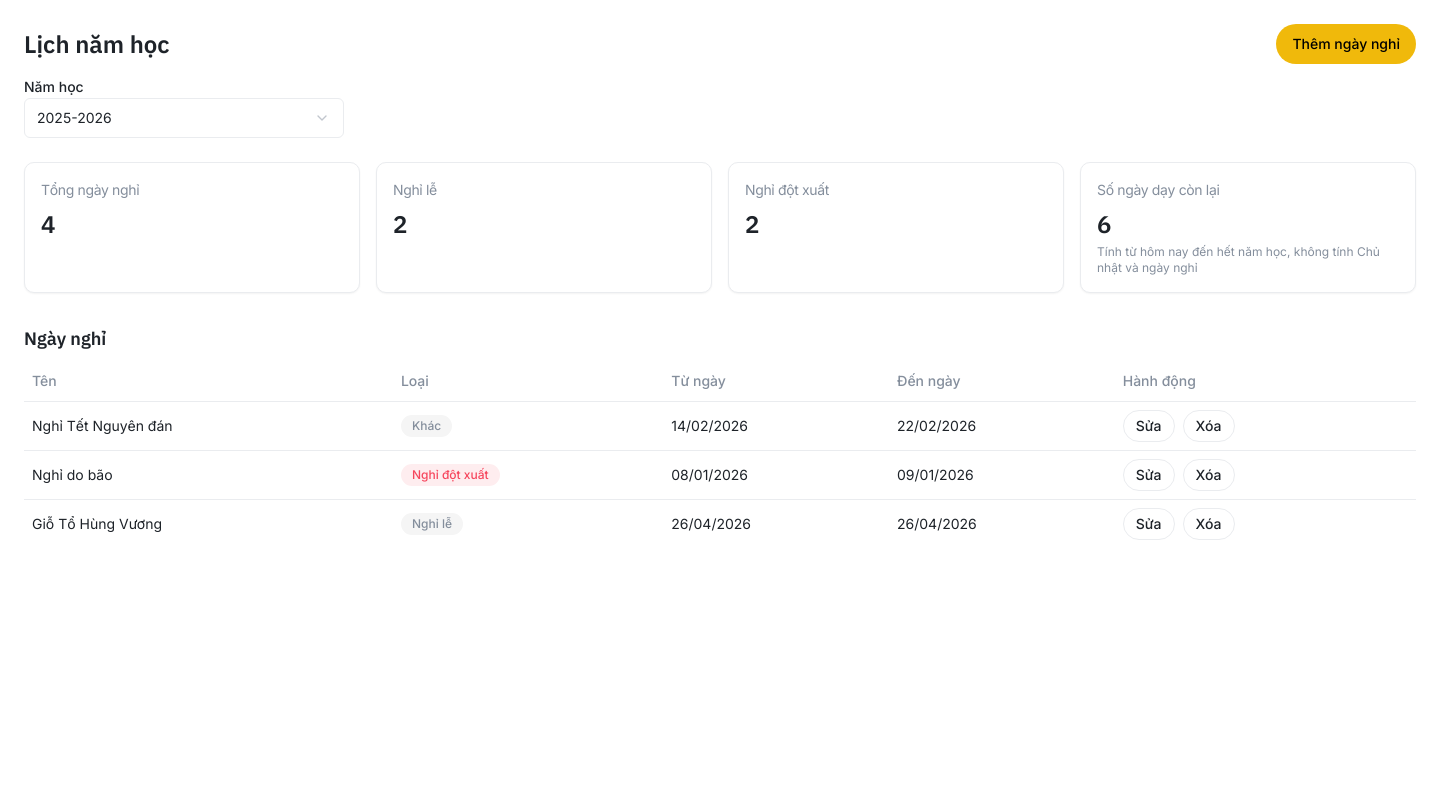
Test: ADMIN thêm ngày nghỉ › backend từ chối (400): hiện nguyên văn trong dialog, dialog không đóng
Click the button "Thêm ngày nghỉ": (1346, 44) 1276,24 -> 1416,64
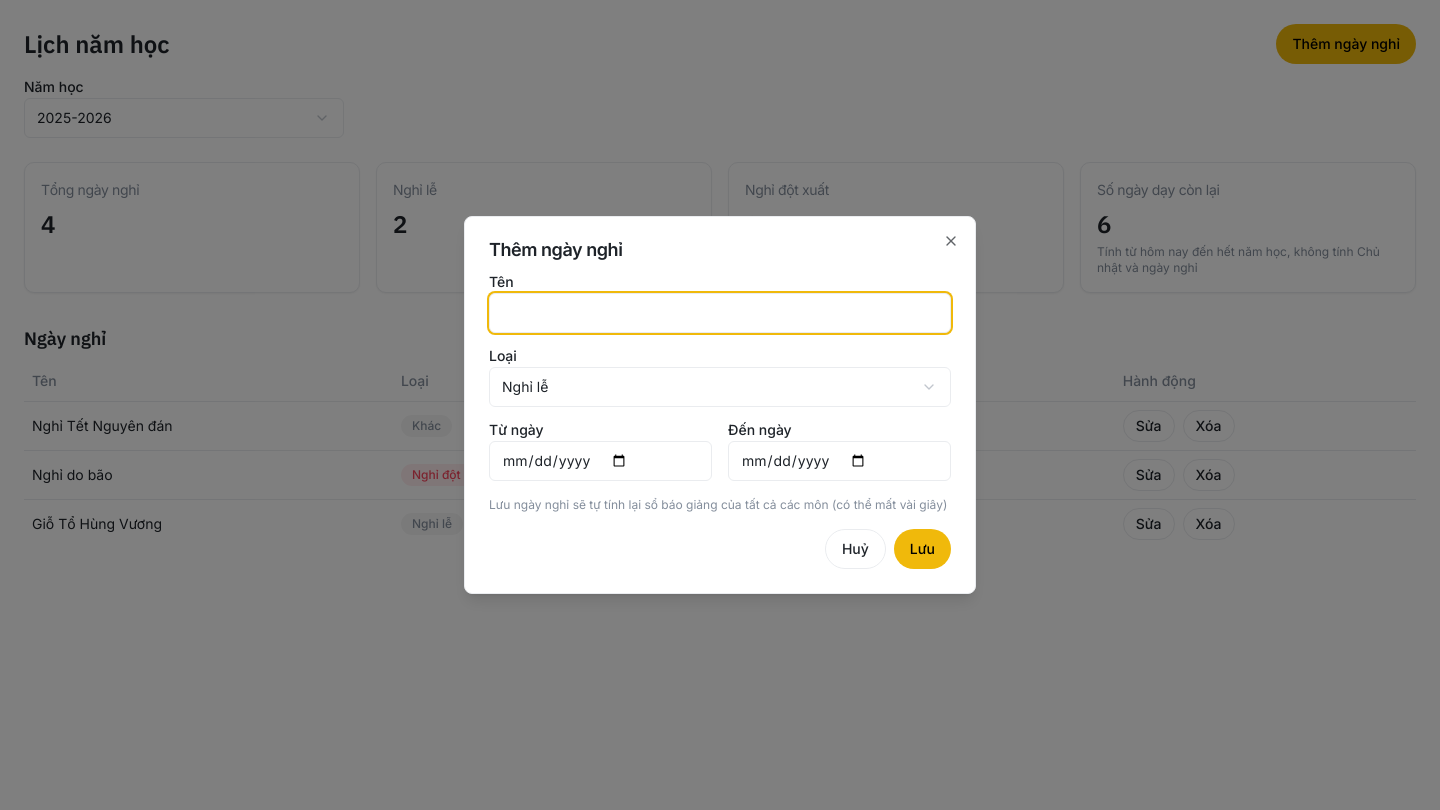
In the field labelled "Tên": (720, 313) 489,293 -> 951,333, type "Nghỉ bão"
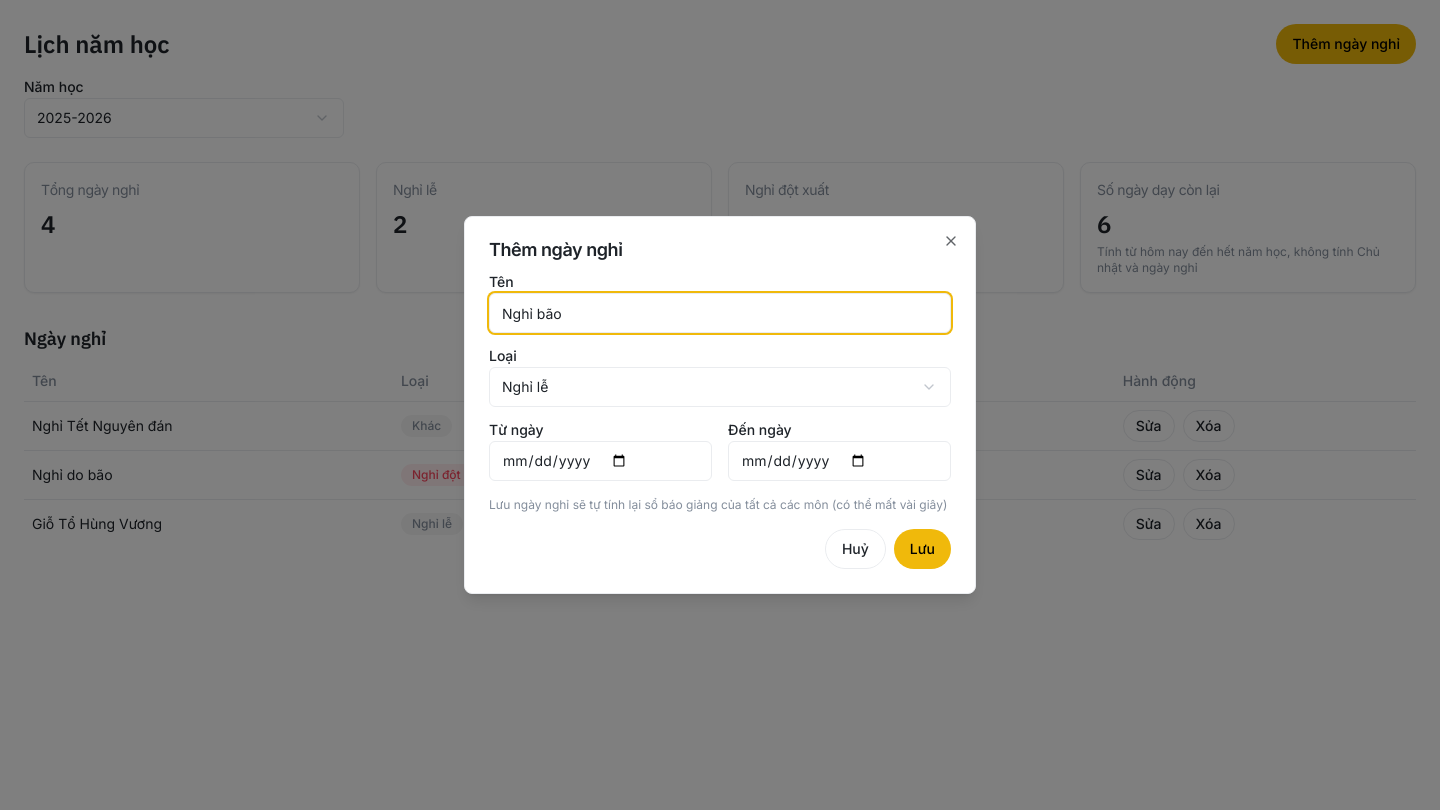
In the date field labelled "Từ ngày": (600, 461) 489,441 -> 712,481, type "2026-09-10"
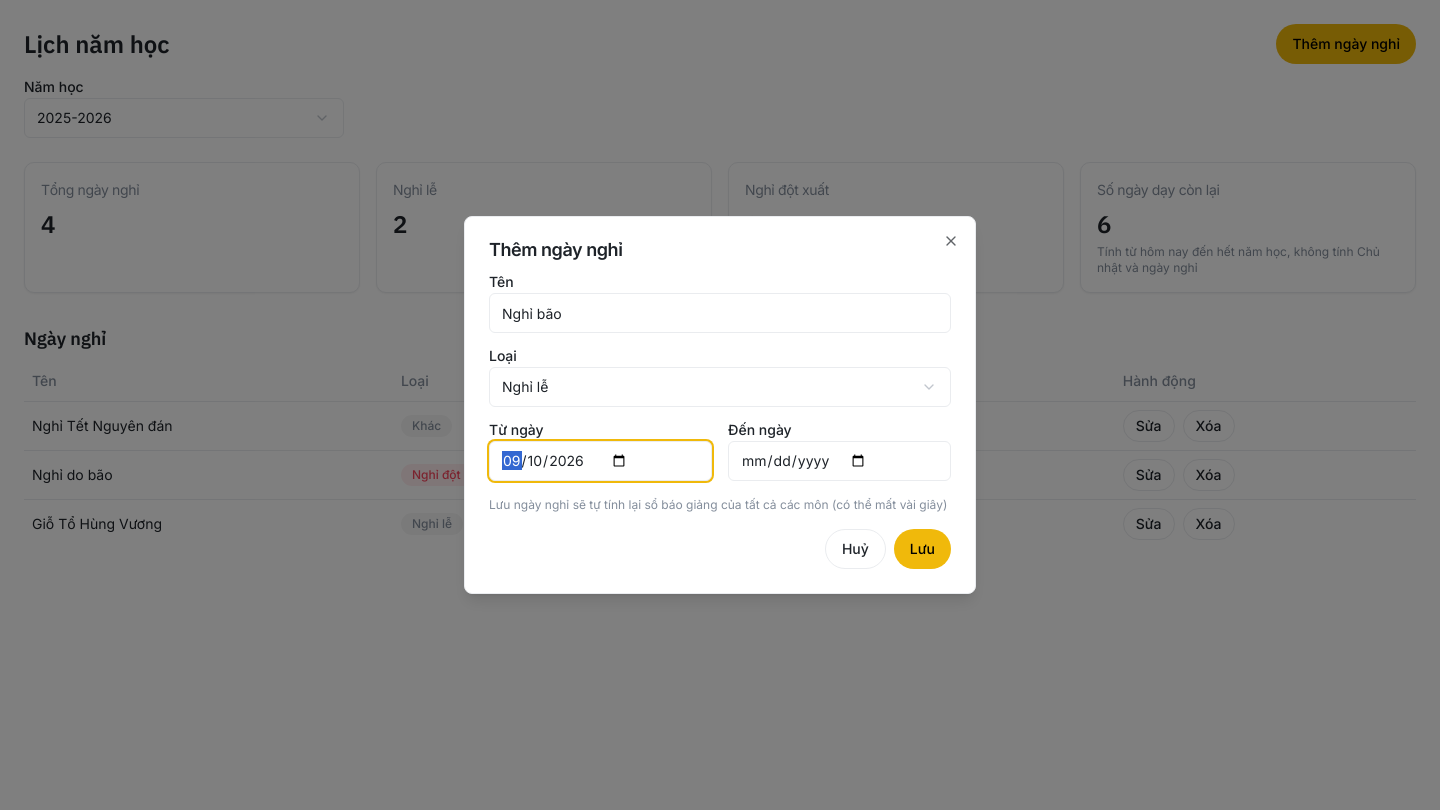
In the date field labelled "Đến ngày": (840, 461) 728,441 -> 951,481, type "2026-09-02"
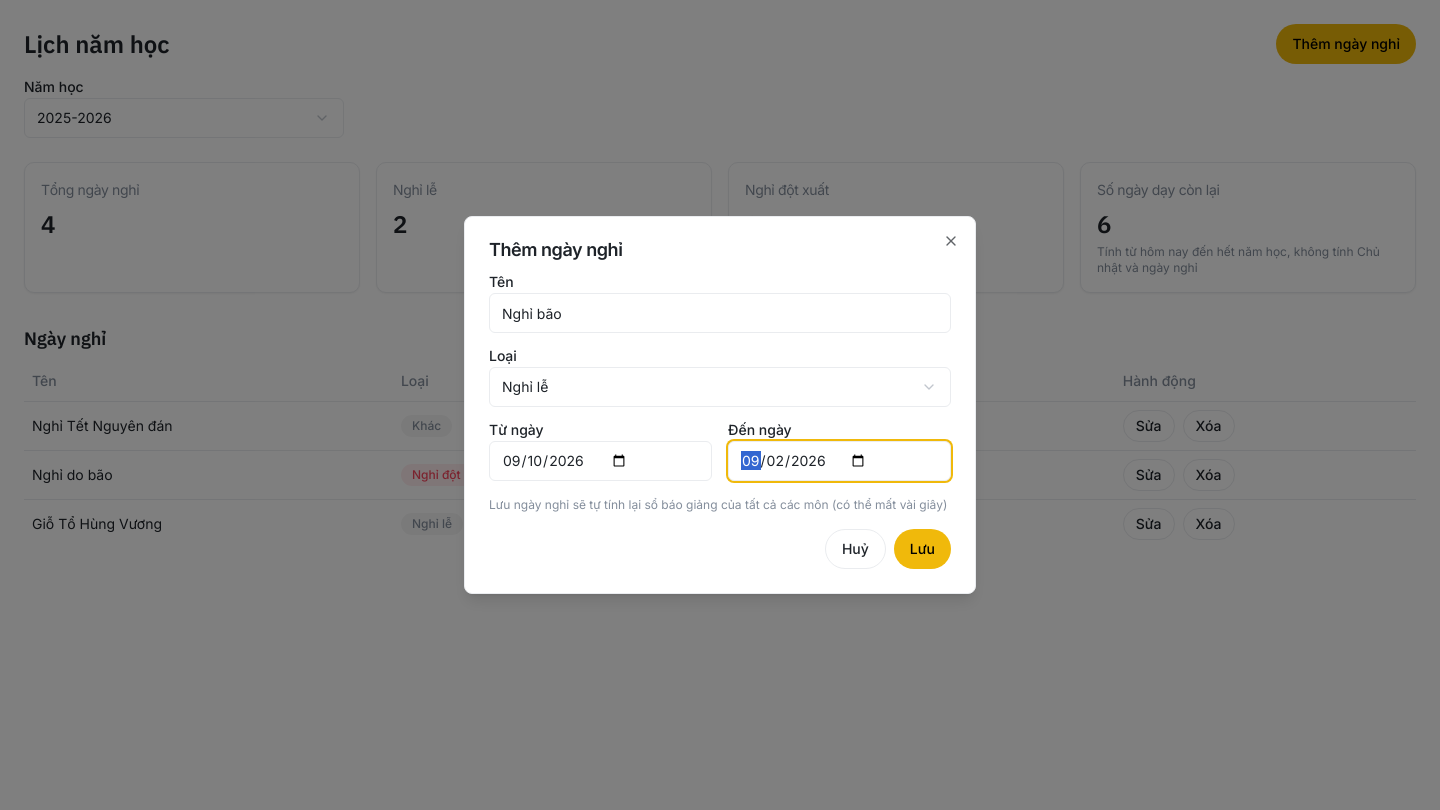
Click the button "Lưu": (922, 549) 894,529 -> 951,569
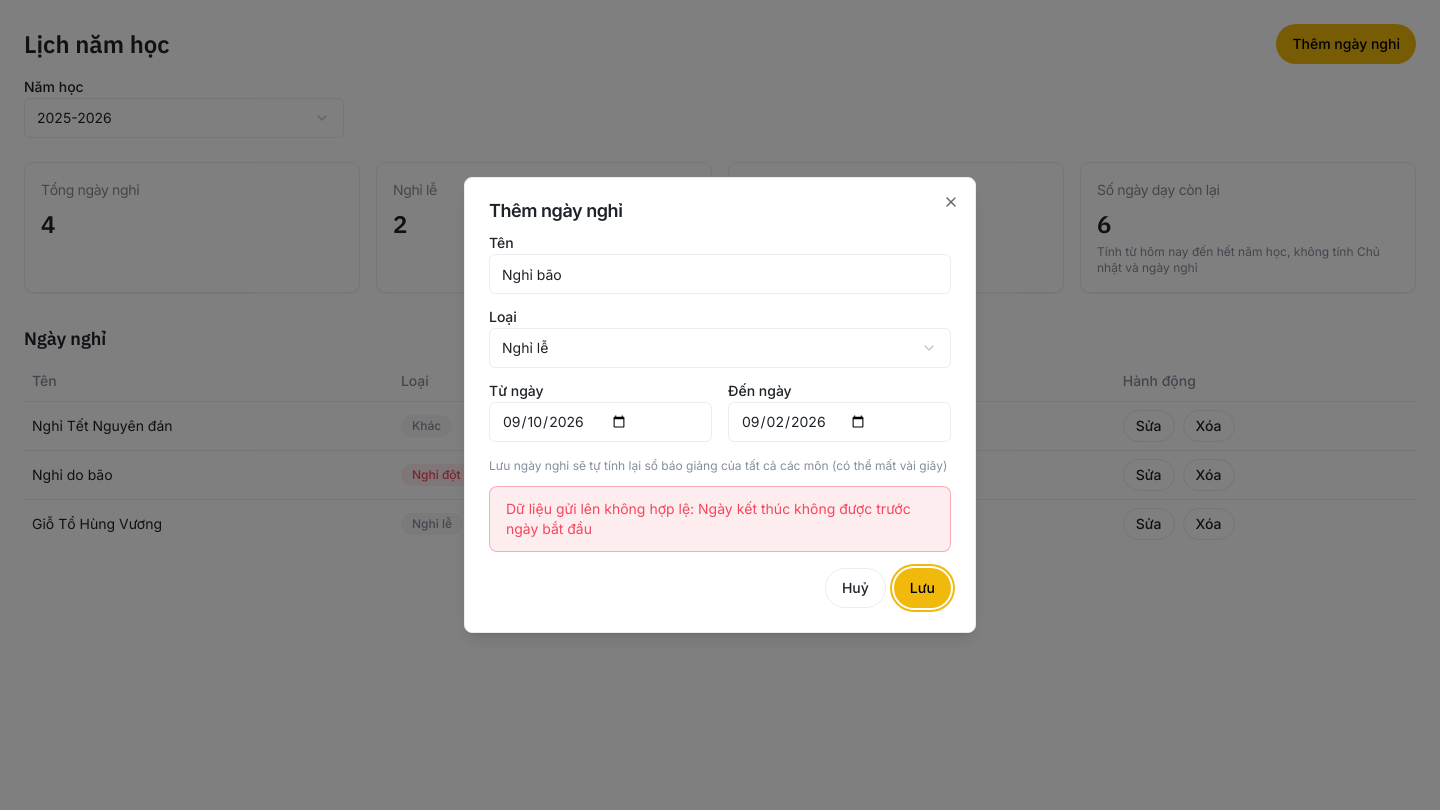
Expected: the dialog "Thêm ngày nghỉ" is shown, 464,177 -> 976,633
Expected: the message shows "Ngày kết thúc không được trước ngày bắt đầu", 506,500 -> 911,537
